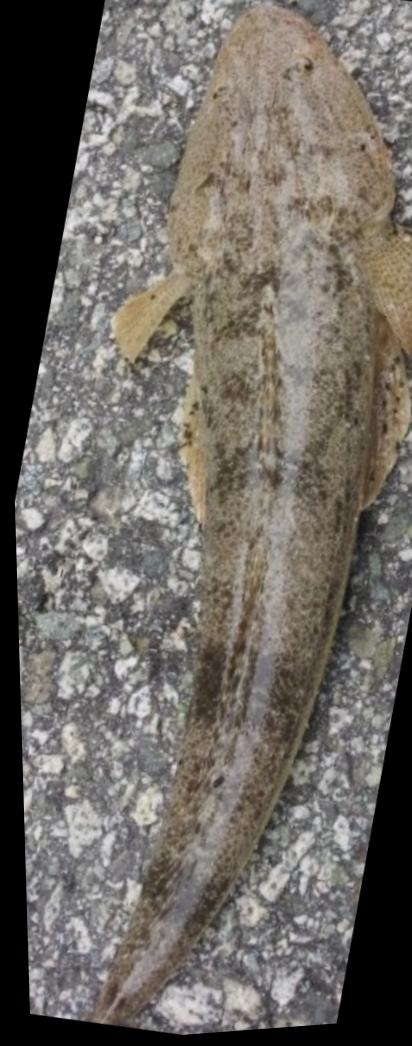fish: (80, 3, 412, 1030)
